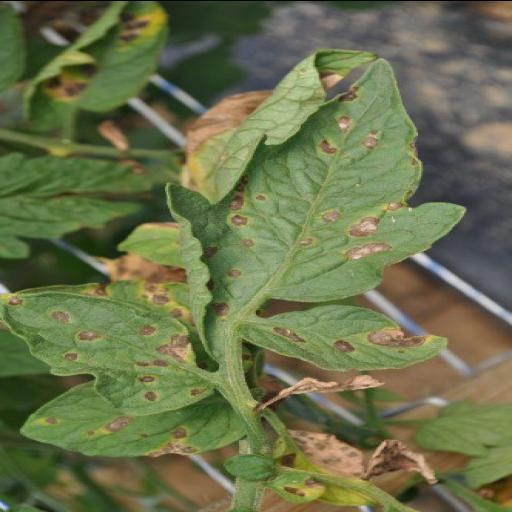Septoria: (158, 47, 470, 373), (4, 281, 220, 413), (8, 0, 175, 134), (10, 376, 246, 460)
